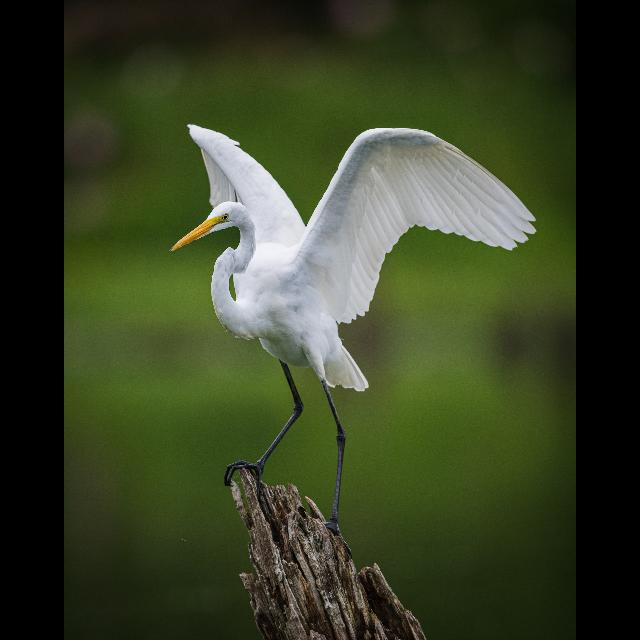egret: (171, 119, 534, 492)
